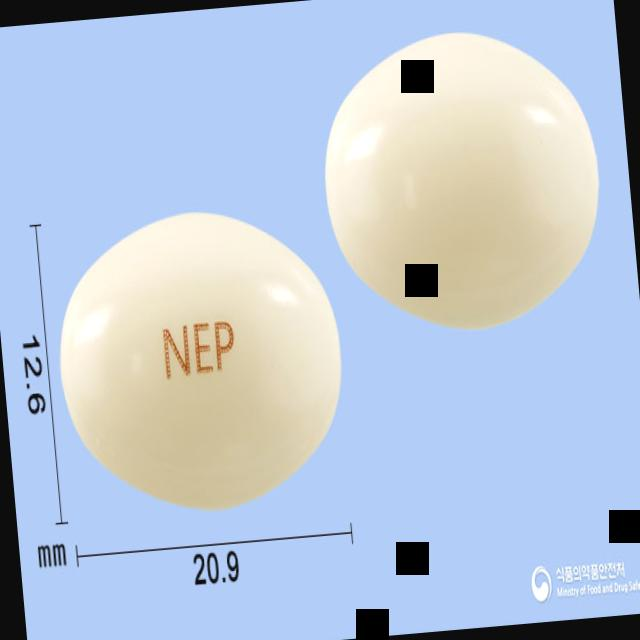Nepoxin Vaginal Soft Cap: (47, 196, 355, 522)
